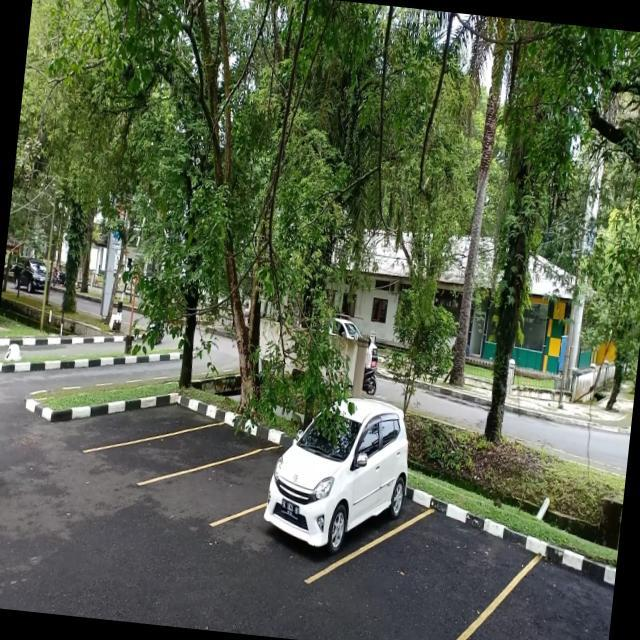empty: (353, 506, 516, 640), (180, 442, 276, 526), (128, 414, 227, 486)
occupied: (250, 421, 412, 585)
